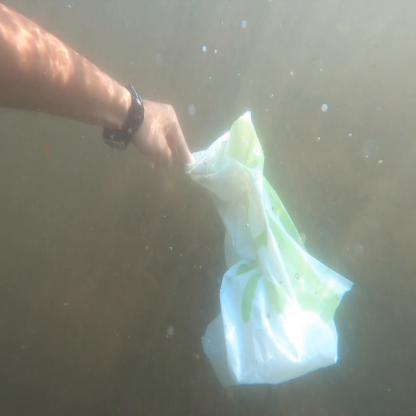Rác: (183, 117, 338, 374)
